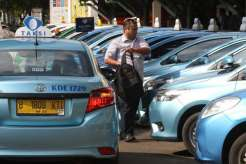plate: (16, 98, 62, 114)
